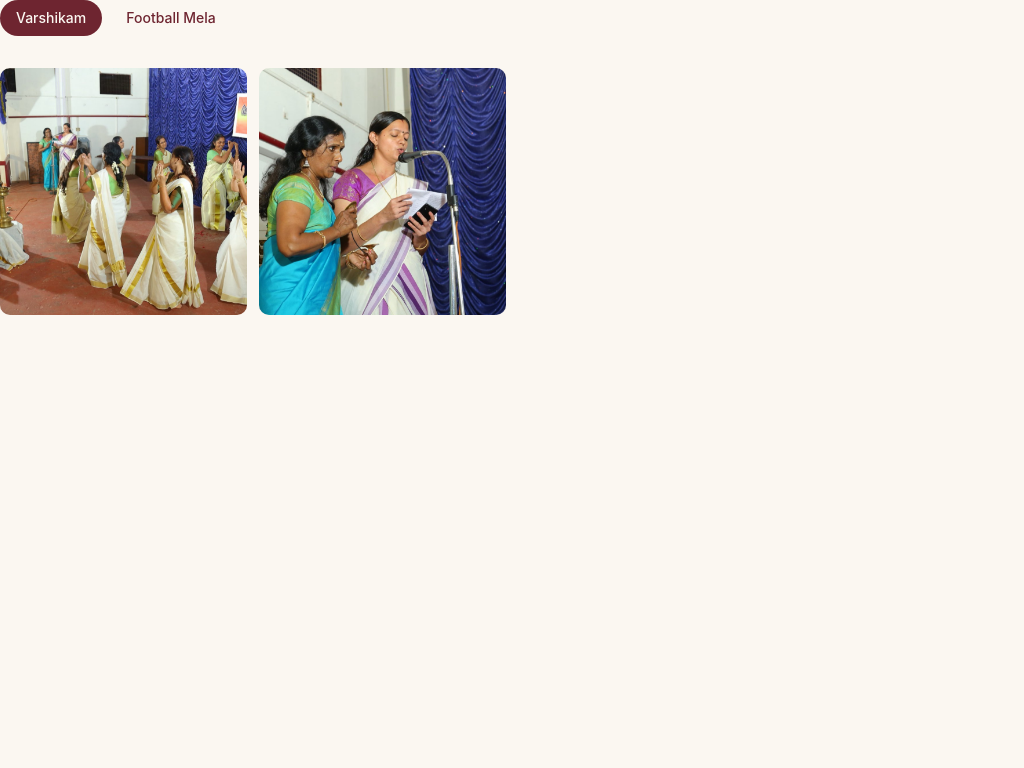
Test: GalleryGrid › opens the lightbox at the clicked photo
This screenshot has width=1024, height=768.
Click the 2nd button named "Varshikam photo 2": (382, 192) [259, 68, 506, 315]
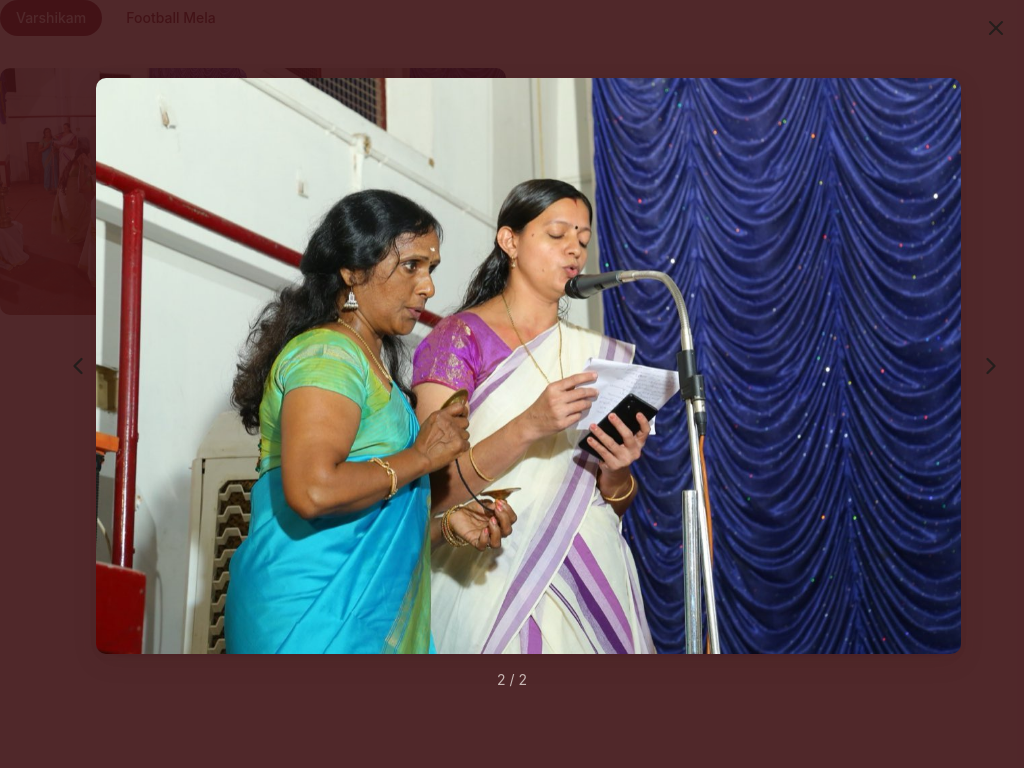
Now the text "2 / 2" is shown, box [497, 670, 527, 690]
